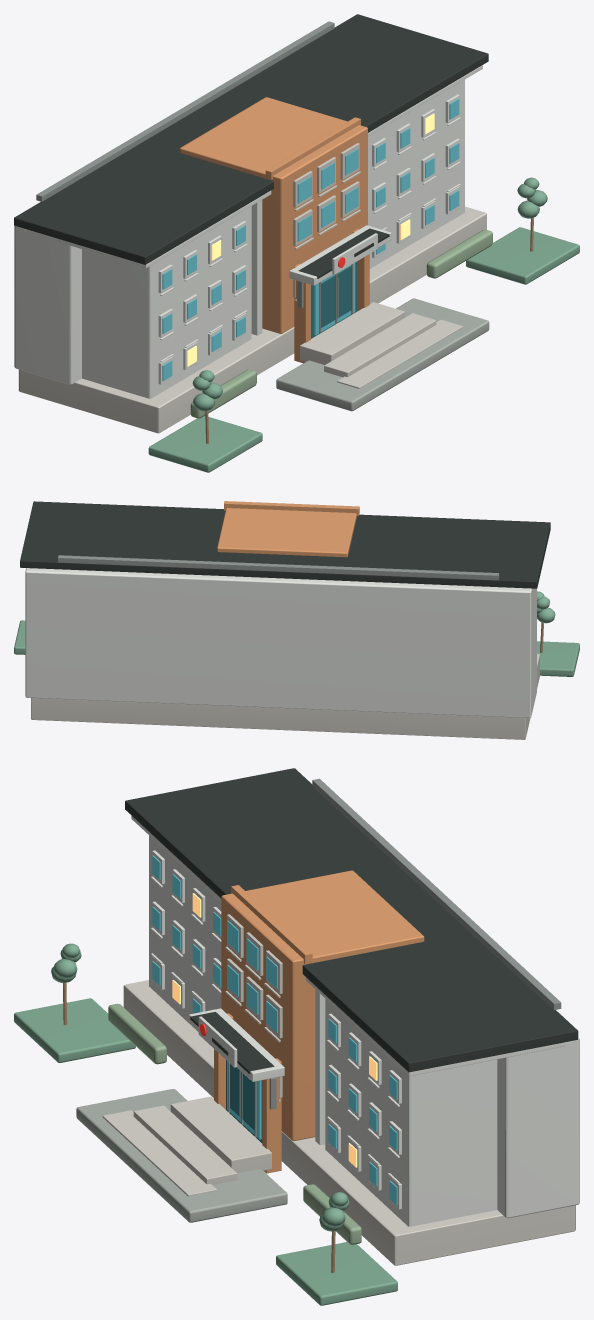
Rendered from visma.glb.
The picture shows the model from 3 angles, top to bottom: view 1: azimuth 30°, elevation 25°; view 2: azimuth 150°, elevation 25°; view 3: azimuth 270°, elevation 25°; orthographic projection. The views are drawn at different scales.
Visible parts, largest first — view 1: LM_Visma_Roof_ContinuousFlatRoofline_ParapetBase, LM_Visma_LeftWing_WhiteFacade, LM_Visma_Center_OrangeCore, LM_Visma_Main_ContinuousBasePlinth, LM_Visma_Main_RearWhiteSpine, LM_Visma_RightWing_WhiteFacade, LM_Visma_Site_PavedForecourt, LM_Visma_Site_LowLawn_Left, LM_Visma_Site_LowLawn_Right, LM_Visma_Roof_BackLowGlassRibbon, LM_Visma_Entrance_Landing, LM_Visma_Entrance_StepMiddle (+13 smaller); view 2: LM_Visma_Main_RearWhiteSpine, LM_Visma_Roof_ContinuousFlatRoofline_ParapetBase, LM_Visma_Main_ContinuousBasePlinth, LM_Visma_Center_OrangeCore, LM_Visma_Roof_BackLowGlassRibbon, LM_Visma_Site_LowLawn_Left, LM_Visma_Roof_CentralOrangeCrown, LM_Visma_Site_LowLawn_Right; view 3: LM_Visma_Roof_ContinuousFlatRoofline_ParapetBase, LM_Visma_RightWing_WhiteFacade, LM_Visma_Center_OrangeCore, LM_Visma_Main_ContinuousBasePlinth, LM_Visma_Main_RearWhiteSpine, LM_Visma_Site_PavedForecourt, LM_Visma_LeftWing_WhiteFacade, LM_Visma_Site_LowLawn_Right, LM_Visma_Site_LowLawn_Left, LM_Visma_Entrance_Landing, LM_Visma_Roof_BackLowGlassRibbon, LM_Visma_Entrance_StepMiddle (+11 smaller).
Boxes of the visible parts, x1,y1,x2,y2 form: LM_Visma_Roof_ContinuousFlatRoofline_ParapetBase: (14, 14, 488, 264); LM_Visma_LeftWing_WhiteFacade: (82, 206, 251, 398); LM_Visma_Center_OrangeCore: (179, 97, 367, 333); LM_Visma_Main_ContinuousBasePlinth: (18, 206, 486, 433); LM_Visma_Main_RearWhiteSpine: (14, 225, 81, 384); LM_Visma_RightWing_WhiteFacade: (368, 79, 464, 268); LM_Visma_Site_PavedForecourt: (276, 298, 489, 411); LM_Visma_Site_LowLawn_Left: (148, 416, 262, 472); LM_Visma_Site_LowLawn_Right: (466, 227, 579, 284); LM_Visma_Roof_BackLowGlassRibbon: (36, 21, 334, 201); LM_Visma_Entrance_Landing: (300, 302, 404, 364); LM_Visma_Entrance_StepMiddle: (324, 313, 436, 377); LM_Visma_Main_RearWhiteSpine: (25, 568, 536, 718); LM_Visma_Roof_ContinuousFlatRoofline_ParapetBase: (20, 501, 550, 588); LM_Visma_Main_ContinuousBasePlinth: (31, 653, 539, 739); LM_Visma_Center_OrangeCore: (217, 508, 356, 557); LM_Visma_Roof_BackLowGlassRibbon: (58, 555, 499, 580); LM_Visma_Site_LowLawn_Left: (537, 641, 579, 676); LM_Visma_Roof_CentralOrangeCrown: (224, 501, 359, 515); LM_Visma_Site_LowLawn_Right: (14, 620, 25, 654); LM_Visma_Roof_ContinuousFlatRoofline_ParapetBase: (125, 768, 578, 1072); LM_Visma_RightWing_WhiteFacade: (325, 999, 497, 1226); LM_Visma_Center_OrangeCore: (221, 870, 424, 1140); LM_Visma_Main_ContinuousBasePlinth: (123, 980, 575, 1265); LM_Visma_Main_RearWhiteSpine: (497, 1038, 579, 1218); LM_Visma_Site_PavedForecourt: (76, 1089, 287, 1222); LM_Visma_LeftWing_WhiteFacade: (149, 835, 221, 1031); LM_Visma_Site_LowLawn_Right: (276, 1242, 397, 1305); LM_Visma_Site_LowLawn_Left: (14, 998, 135, 1062); LM_Visma_Entrance_Landing: (170, 1096, 271, 1172); LM_Visma_Roof_BackLowGlassRibbon: (312, 778, 561, 1010); LM_Visma_Entrance_StepMiddle: (133, 1105, 237, 1184).
Size of the model in its own units: 2.06 by 0.6617 by 1.51.
